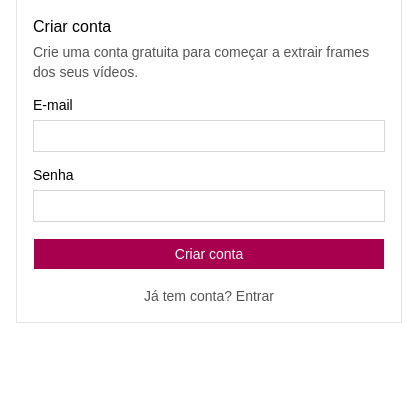
Test: RegisterForm › mostra erros de validação ao submeter vazio
The image size is (419, 396).
Click the button "Criar conta" at x=209, y=254, box [33,238,385,270]
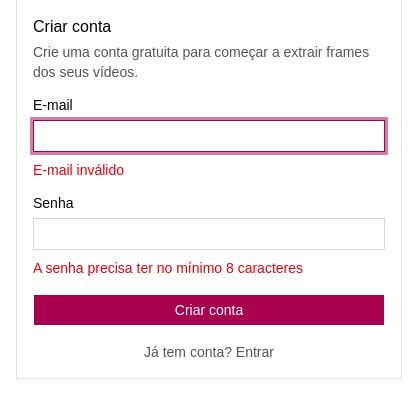
Result: the text "E-mail inválido" is shown at [33,162,124,178]
Result: the text "A senha precisa ter no mínimo 8 caracteres" is shown at [33,260,303,276]
